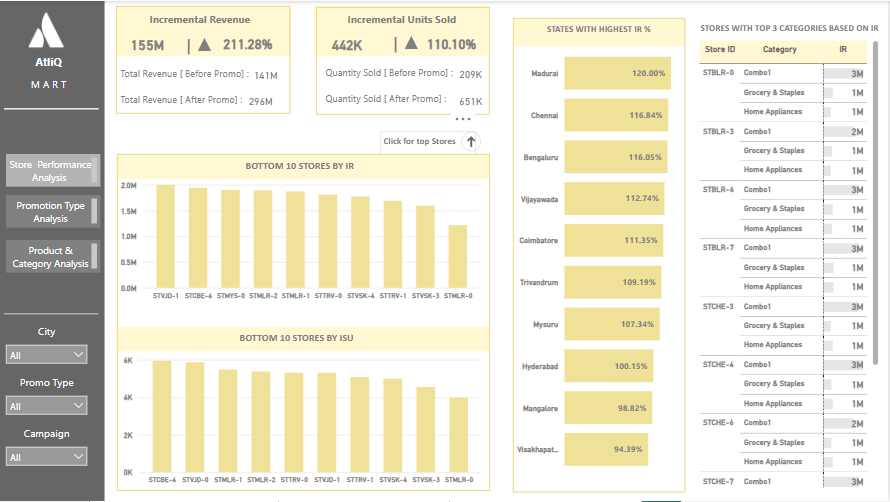

What the dashboard file says about the page in this screenshot:
{"tool":"powerbi","page":{"name":"Page 1","canvas":[1280,720],"ordinal":0},"visuals":[{"type":"tableEx","fields":{"Values":["fact_events2.store_id","fact_events2.ISU"]},"box":[243.6,206.6,159.6,268.8],"z":1},{"type":"card","fields":{"Values":["Sum(fact_events2.Revenue Before Promo)"]},"box":[23.5,65.5,228.5,122.6],"z":4},{"type":"card","fields":{"Values":["Sum(fact_events2.Revenue After Promo)"]},"box":[288.9,63.8,228.5,126],"z":5},{"type":"slicer","fields":{"Values":["dim_stores.Column2"]},"box":[935.6,206.6,228.5,351.1],"z":6},{"type":"tableEx","fields":{"Values":["fact_events2.store_id","fact_events2.IR"]},"box":[25.2,213.3,169.7,253.6],"z":7},{"type":"textbox","box":[23.5,0,250.3,47],"z":9},{"type":"clusteredColumnChart","title":"Revenue Before and After Promo by campaign_id","fields":{"Y":["Sum(fact_events2.Revenue Before Promo)","Sum(fact_events2.Revenue After Promo)"],"Category":["dim_stores.Column2"]},"box":[430,206.6,472,268.8],"z":10},{"type":"clusteredColumnChart","title":" IR by City","fields":{"Y":["Sum(fact_events2.IR)"],"Category":["dim_stores.Column2"]},"box":[25.2,488.8,378,231.8],"z":11},{"type":"columnChart","title":" ISU by City","fields":{"Y":["Sum(fact_events2.ISU)"],"Category":["dim_stores.Column2"]},"box":[430,489,472,231],"z":12}]}

Visuals, with their boxes on the page's 1280x720 design canvas (x1, y1, x2, y2). These are canvas units, not pixel positions in the 890x502 screenshot, which may show the page scaled, cropped or inside an application window:
tableEx - fact_events2.store_id x fact_events2.ISU: pyautogui.locateOnScreen(244, 207, 403, 475)
card - Sum(fact_events2.Revenue Before Promo): pyautogui.locateOnScreen(24, 66, 252, 188)
card - Sum(fact_events2.Revenue After Promo): pyautogui.locateOnScreen(289, 64, 517, 190)
slicer - dim_stores.Column2: pyautogui.locateOnScreen(936, 207, 1164, 558)
tableEx - fact_events2.store_id x fact_events2.IR: pyautogui.locateOnScreen(25, 213, 195, 467)
textbox: pyautogui.locateOnScreen(24, 0, 274, 47)
"Revenue Before and After Promo by campaign_id" clusteredColumnChart: pyautogui.locateOnScreen(430, 207, 902, 475)
" IR by City" clusteredColumnChart: pyautogui.locateOnScreen(25, 489, 403, 721)
" ISU by City" columnChart: pyautogui.locateOnScreen(430, 489, 902, 720)
